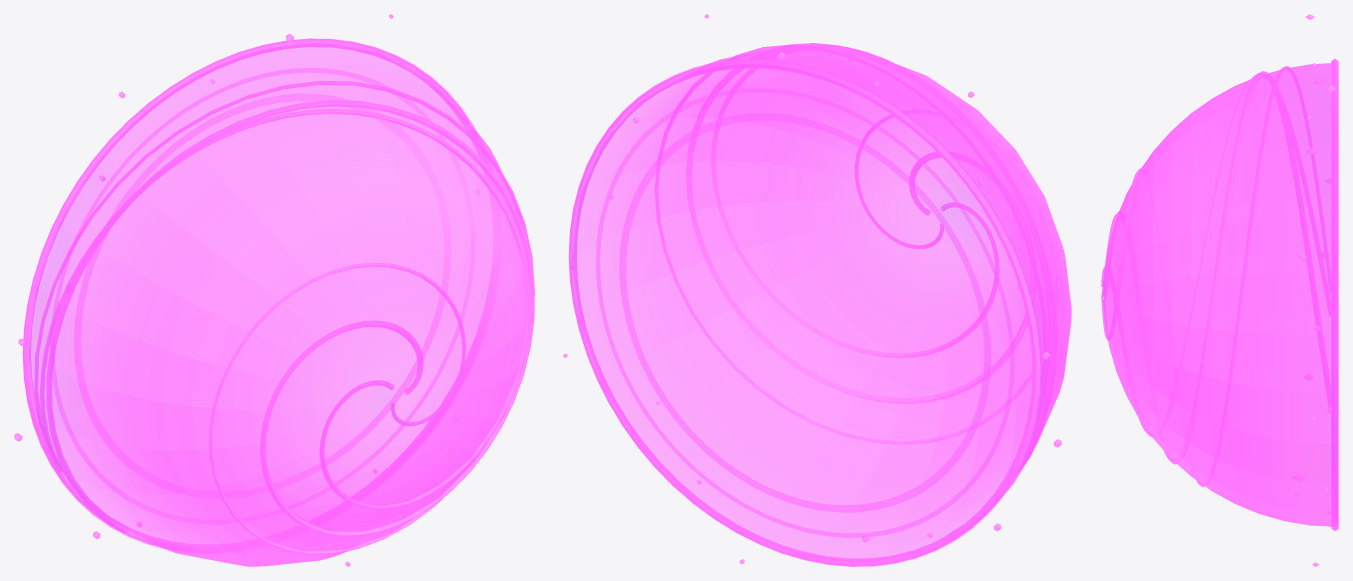
File: energy_shield.glb
The picture shows the model from 3 angles, left to right: view 1: azimuth 30°, elevation 25°; view 2: azimuth 150°, elevation 25°; view 3: azimuth 270°, elevation 25°; orthographic projection. The views are drawn at different scales.
Parts seen in each view (by area): view 1: Dome_Energy_Ribbons, Floor_Rings_Sparkles; view 2: Dome_Energy_Ribbons, Floor_Rings_Sparkles; view 3: Dome_Energy_Ribbons, Floor_Rings_Sparkles.
Boxes of the visible parts, <box> form: Dome_Energy_Ribbons: <box>22,38,534,566</box>; Floor_Rings_Sparkles: <box>14,14,478,566</box>; Dome_Energy_Ribbons: <box>569,43,1071,566</box>; Floor_Rings_Sparkles: <box>563,14,1061,566</box>; Dome_Energy_Ribbons: <box>1100,58,1338,530</box>; Floor_Rings_Sparkles: <box>1293,14,1336,566</box>.
Size of the model in its own units: 3.22 by 3.32 by 1.53.
2 materials, 2 textured.
